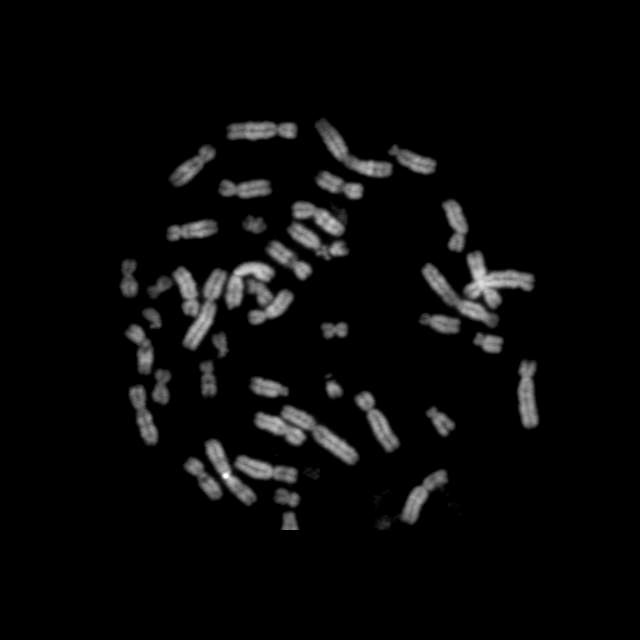chromosome: (421, 265, 499, 329), (282, 404, 358, 464), (315, 120, 391, 177), (184, 268, 226, 350), (400, 469, 450, 525), (356, 393, 400, 453), (227, 262, 276, 308), (464, 270, 534, 300), (166, 146, 214, 188), (290, 201, 346, 237), (246, 288, 294, 330), (466, 250, 500, 308), (129, 384, 159, 446), (235, 455, 297, 485), (268, 240, 310, 282), (184, 457, 222, 501), (256, 412, 304, 446), (517, 360, 539, 432), (227, 120, 297, 142), (443, 199, 469, 255), (164, 218, 216, 246), (126, 325, 154, 377), (390, 142, 434, 174), (218, 177, 272, 203), (174, 266, 198, 318), (284, 222, 322, 254), (318, 172, 364, 198), (419, 311, 458, 339), (249, 375, 289, 401), (426, 404, 454, 438), (244, 276, 272, 308), (117, 258, 137, 302), (472, 332, 504, 358), (198, 358, 218, 398), (318, 374, 344, 402), (152, 368, 170, 406), (272, 487, 302, 509), (321, 321, 349, 342), (148, 274, 170, 300), (210, 334, 232, 360), (326, 237, 350, 260), (145, 306, 161, 330), (280, 512, 298, 532)
